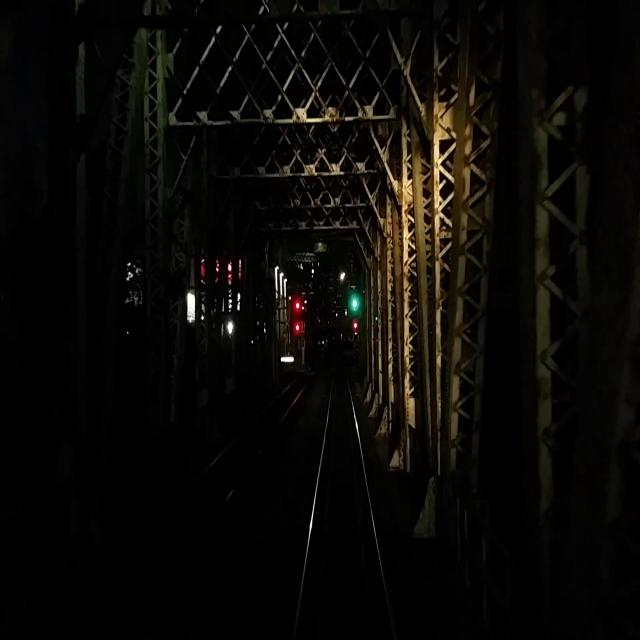rail-track: (41, 374, 310, 639), (297, 370, 392, 639)
